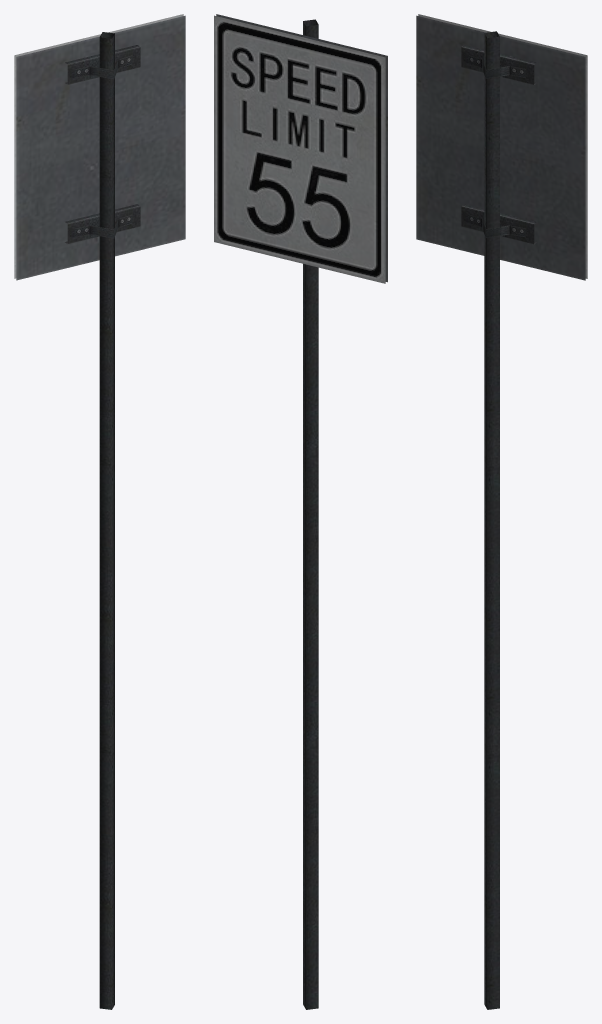
File: Speed_Limit_-_55_mph.glb
3 renders of one model, left to right at view 1: azimuth 30°, elevation 25°; view 2: azimuth 150°, elevation 25°; view 3: azimuth 330°, elevation 25°, orthographic.
Parts seen in each view (by area): view 1: Speed_Limit_55mph__LOD1; view 2: Speed_Limit_55mph__LOD1; view 3: Speed_Limit_55mph__LOD1.
Part boxes in pixels (x1,y1,x2,y2): Speed_Limit_55mph__LOD1: (14, 14, 185, 1009); Speed_Limit_55mph__LOD1: (214, 14, 387, 1009); Speed_Limit_55mph__LOD1: (416, 14, 587, 1009).
Size of the model in its own units: 0.546 by 2.99 by 0.0909.
Materials: 1 (1 with a texture image).
